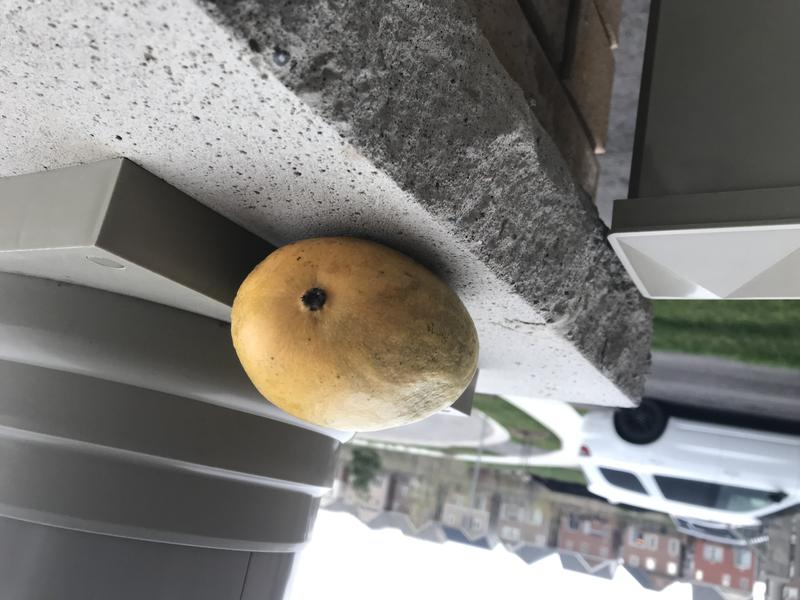mango: (223, 229, 489, 444)
